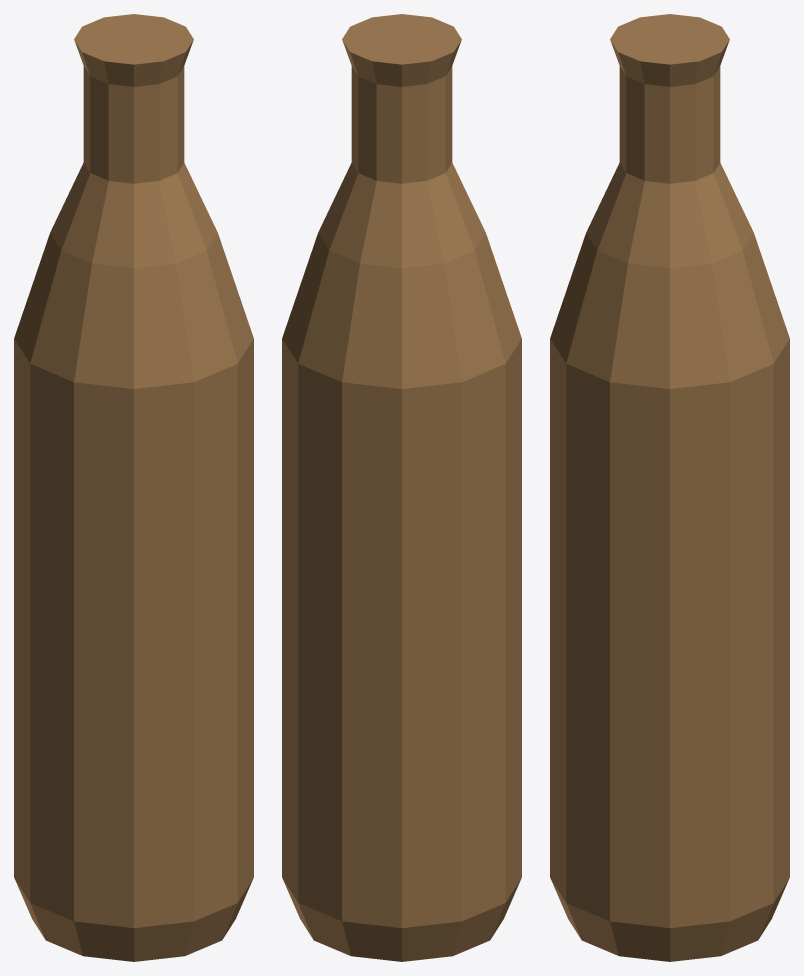
File: bottle_glass_brown.fbx
The picture shows the model from 3 angles, left to right: view 1: azimuth 30°, elevation 25°; view 2: azimuth 150°, elevation 25°; view 3: azimuth 270°, elevation 25°; orthographic projection.
Visible parts, largest first — view 1: bottle_glass_brown; view 2: bottle_glass_brown; view 3: bottle_glass_brown.
Boxes of the visible parts, box(x1,y1,x2,y2) form: bottle_glass_brown: box(14, 14, 253, 961); bottle_glass_brown: box(282, 14, 521, 961); bottle_glass_brown: box(550, 14, 789, 961).
Size of the model in its own units: 0.021 by 0.085 by 0.021.
